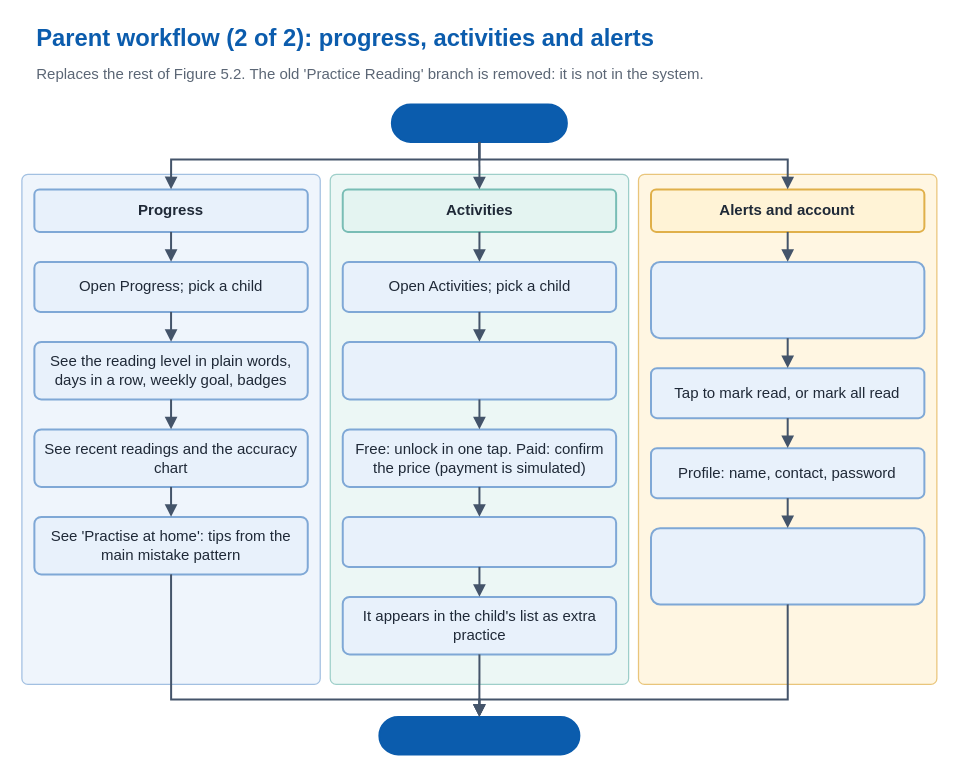
Image size: 959x776. Some labels were removed from this diagram. The shapes that lost their labels are listed below. From the top down, each one's centre as x and y in pixels, then its label:
At [478,122]: "Parent dashboard".
At [787,299]: "Open Alerts: summaries, needs attention, level confirmed, PIN changed".
At [478,370]: "See the best matches first (level and mistakes)".
At [478,541]: "Rate 1 to 5 stars".
At [787,565]: "Delete my account (password needed): removes children only you guard".
At [479,735]: "Back to dashboard".
